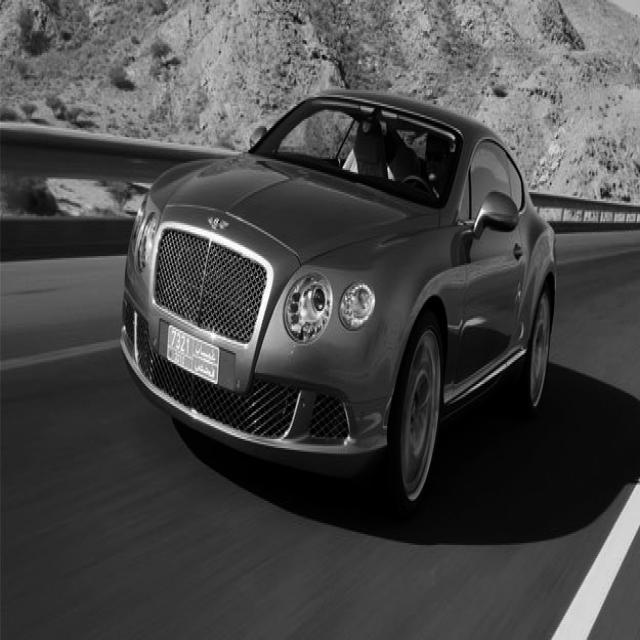car: (119, 88, 557, 517)
plat_license: (165, 322, 220, 384)
